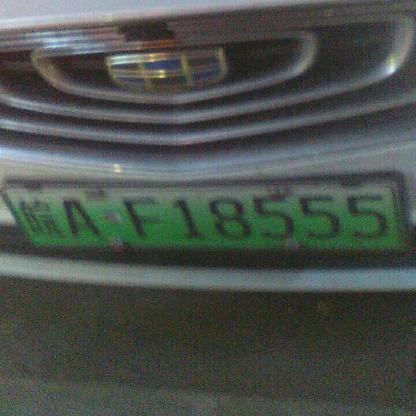lp: (3, 184, 407, 250)
